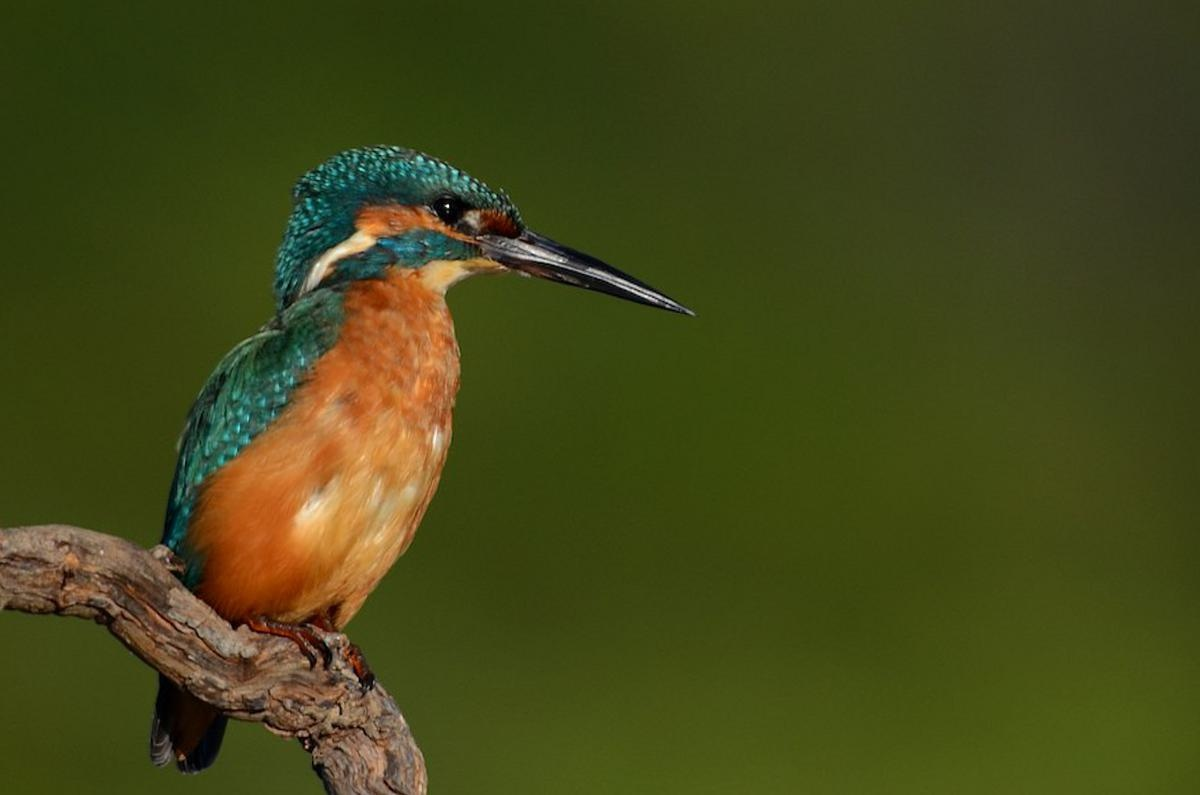kingfisher: (135, 146, 715, 695)
